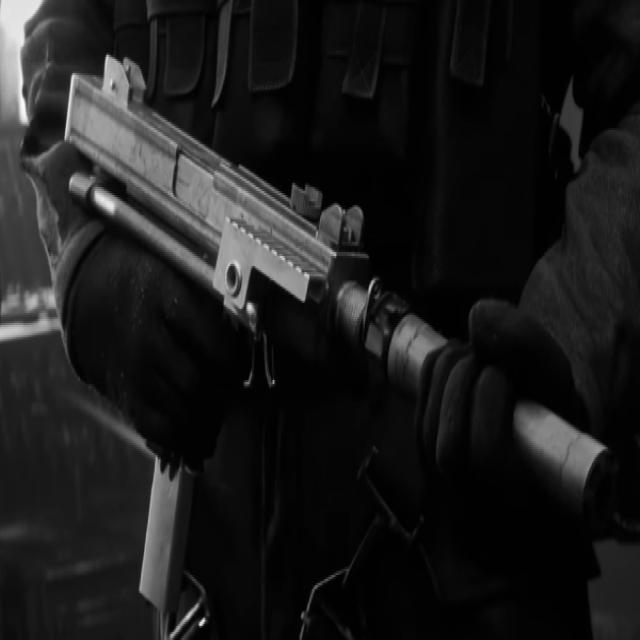Sub-machine-gun: (65, 49, 616, 620)
